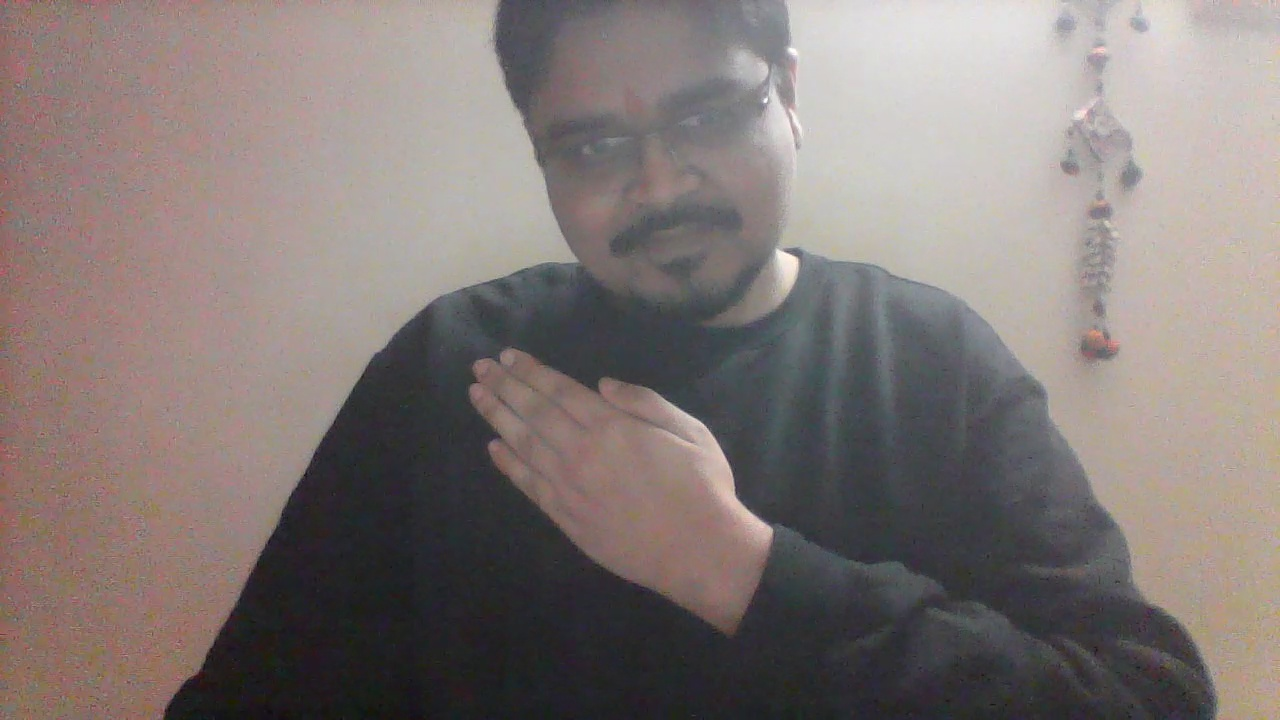Please: (467, 345, 738, 648)
